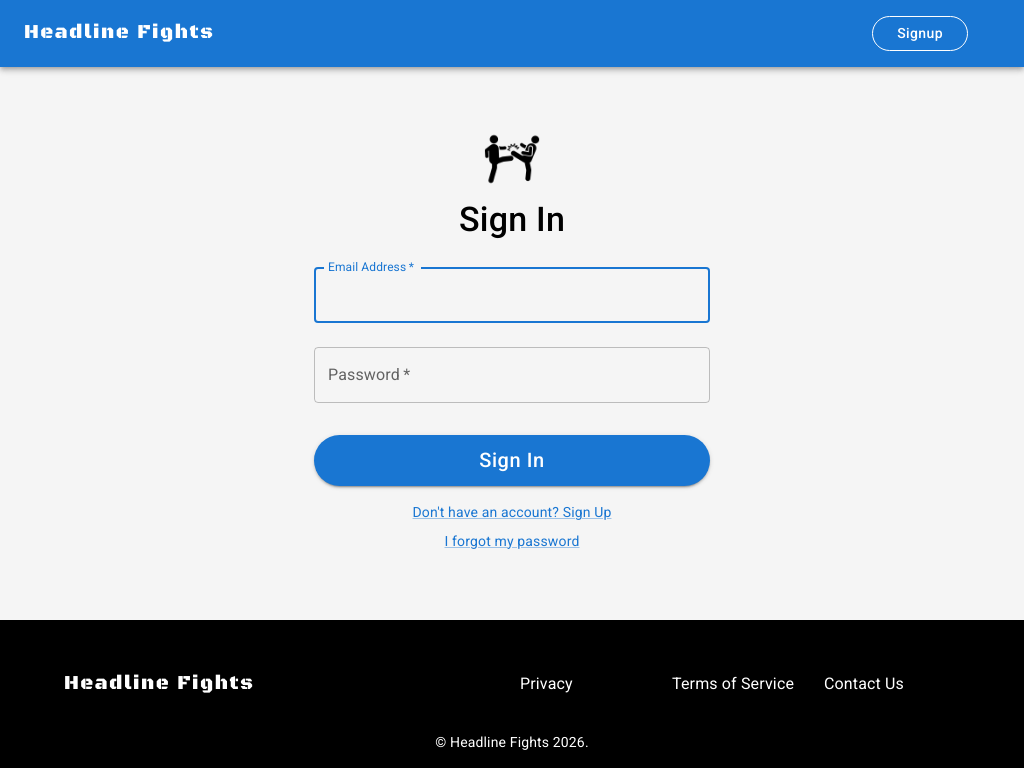
Test: Login page › shows rate-limit error for 429 response
In the field labelled "Email Address *": (512, 296) [314, 268, 710, 324], type "test@example.com"
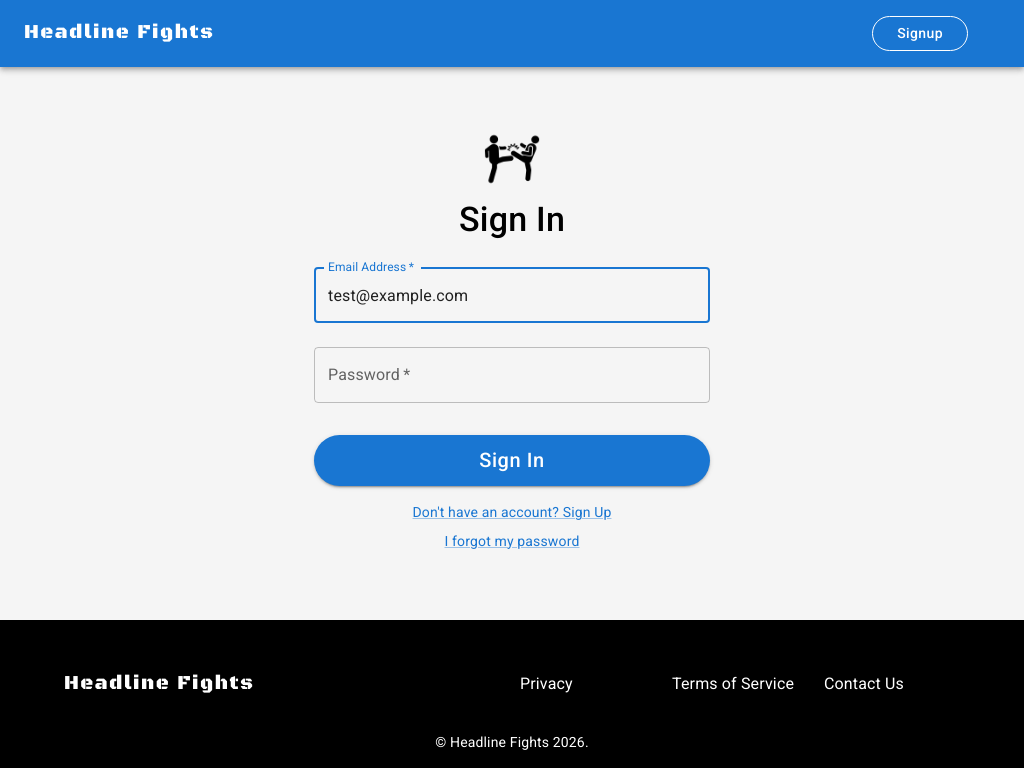
In the password field labelled "Password *": (512, 376) [314, 348, 710, 404], type "Password1!"
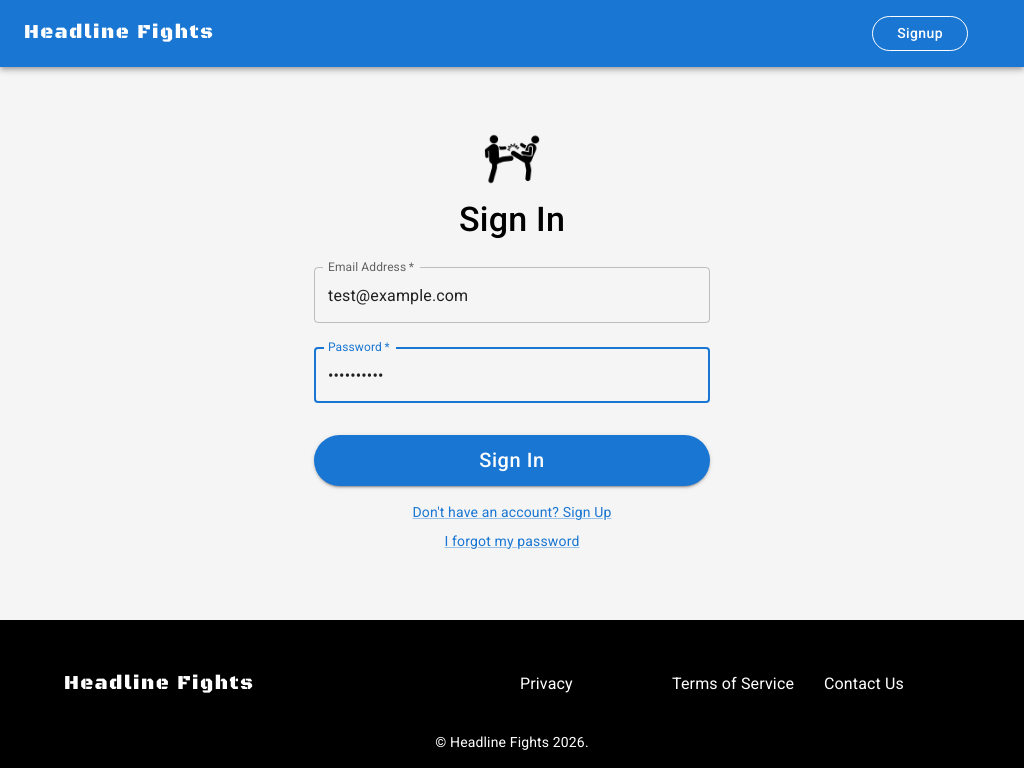
Submit the form "Sign In", box [314, 252, 710, 550]
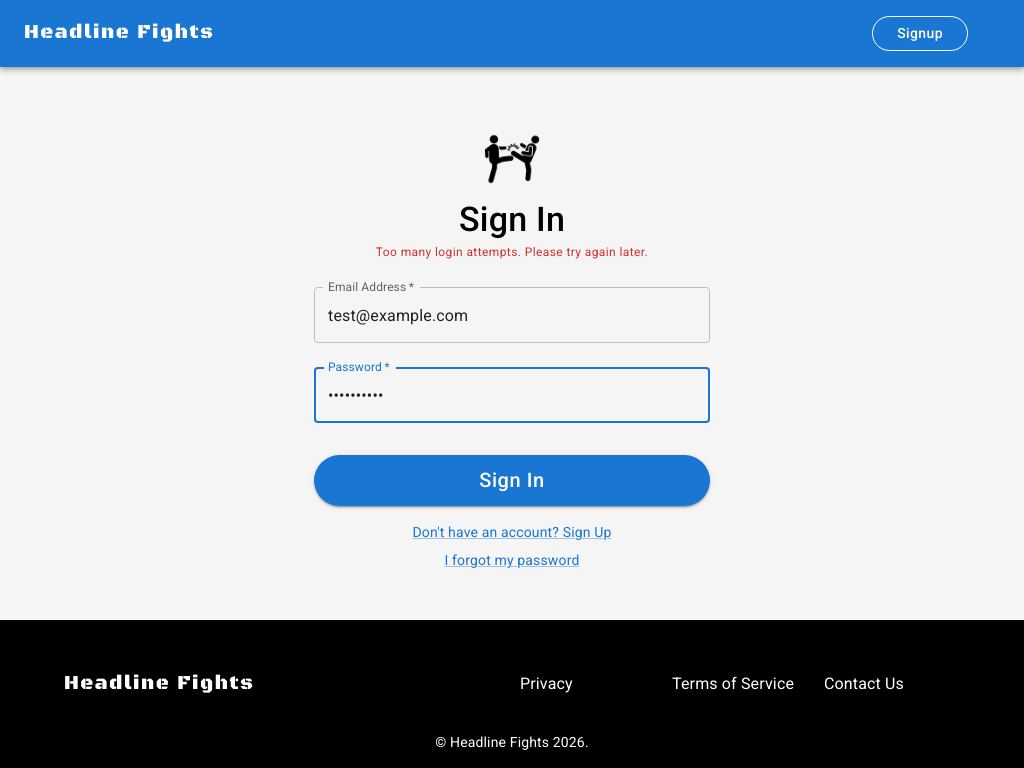
Expected: the text "Too many login attempts. Please try again later." is shown, [376, 244, 648, 263]
